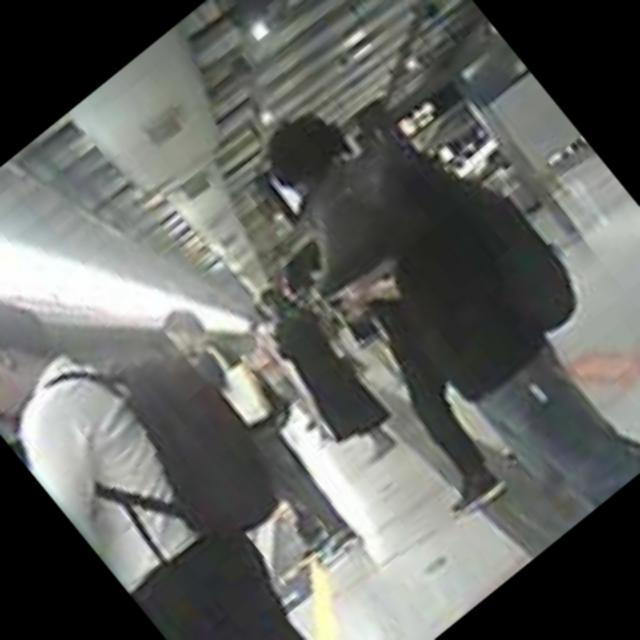person: (234, 73, 640, 549), (0, 262, 370, 640), (139, 286, 397, 576), (232, 270, 415, 474)
